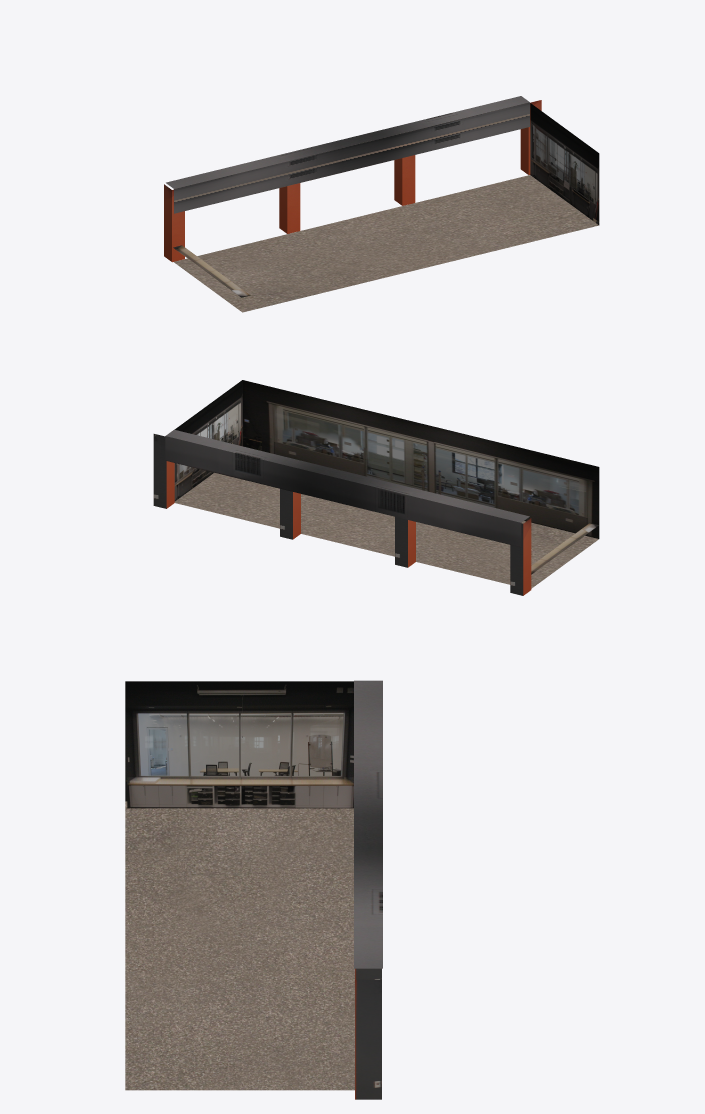
The model's file is 60_fifth_edit.gltf.
The picture shows the model from 3 angles, top to bottom: view 1: azimuth 30°, elevation 25°; view 2: azimuth 150°, elevation 25°; view 3: azimuth 270°, elevation 25°; orthographic projection. The views are drawn at different scales.
Parts seen in each view (by area): view 1: Floor_InnerBack, Hangover, Wall_RightInner, Column4, Column1, Column2, Cabinet, Column3; view 2: Wall_BackInner1, Floor_InnerBack, Hangover, Wall_RightInner, Column3, Column4, Column2, Column1, Cabinet; view 3: Floor_InnerBack, Wall_LeftInner, Hangover, Cabinet, Column3.
Part boxes in pixels (x1,y1,x2,y2): Floor_InnerBack: [174, 175, 598, 312]; Hangover: [166, 96, 529, 213]; Wall_RightInner: [530, 103, 599, 224]; Column4: [164, 184, 184, 262]; Column1: [279, 183, 300, 233]; Column2: [394, 155, 415, 205]; Cabinet: [173, 245, 250, 297]; Column3: [520, 100, 541, 174]; Wall_BackInner1: [242, 380, 599, 538]; Floor_InnerBack: [174, 472, 598, 588]; Hangover: [165, 429, 529, 547]; Wall_RightInner: [174, 380, 242, 501]; Column3: [153, 434, 174, 508]; Column4: [510, 518, 531, 595]; Column2: [280, 488, 300, 539]; Column1: [395, 517, 415, 567]; Cabinet: [531, 523, 598, 574]; Floor_InnerBack: [125, 801, 354, 1090]; Wall_LeftInner: [125, 681, 353, 801]; Hangover: [354, 680, 382, 968]; Cabinet: [127, 777, 353, 808]; Column3: [355, 979, 381, 1099].
Size of the model in its own units: 19.6 by 2.89 by 14.63.
Materials: 12 (11 with a texture image).
